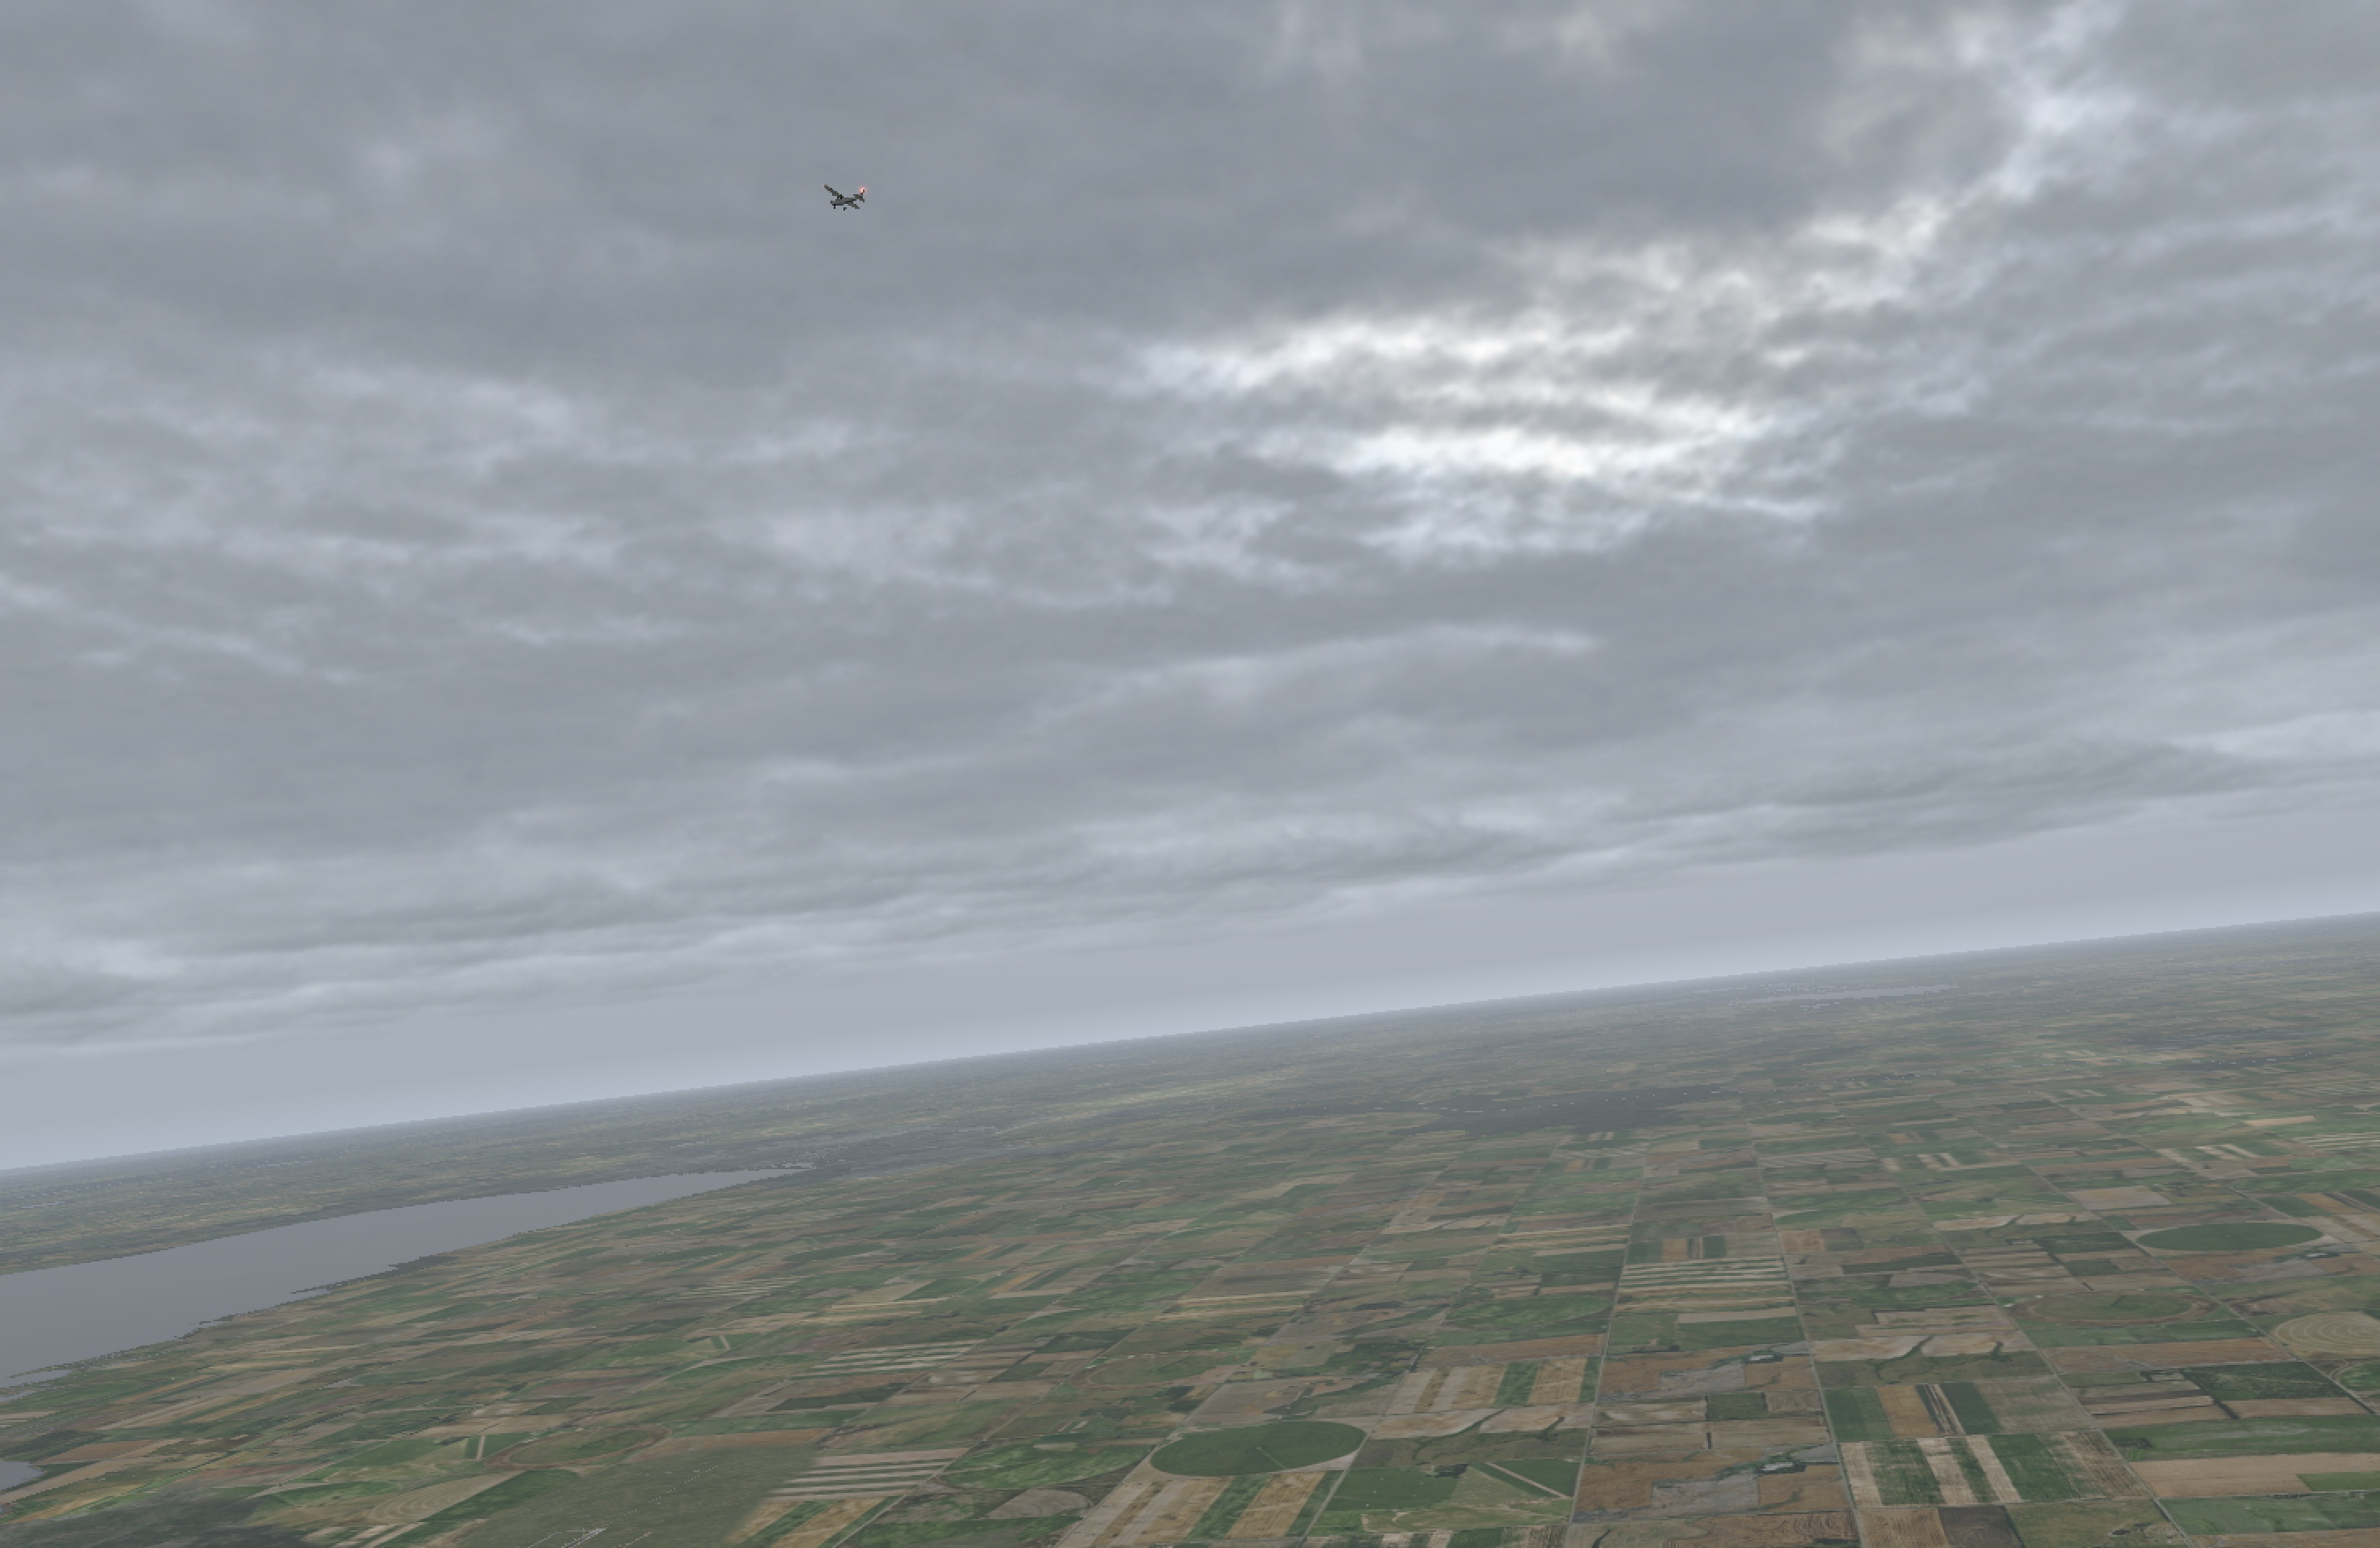aircraft: (822, 194, 860, 208)
